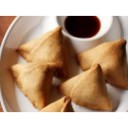samosa: (77, 40, 128, 85), (62, 68, 115, 111), (20, 29, 68, 76), (9, 62, 54, 108), (40, 95, 74, 113)
